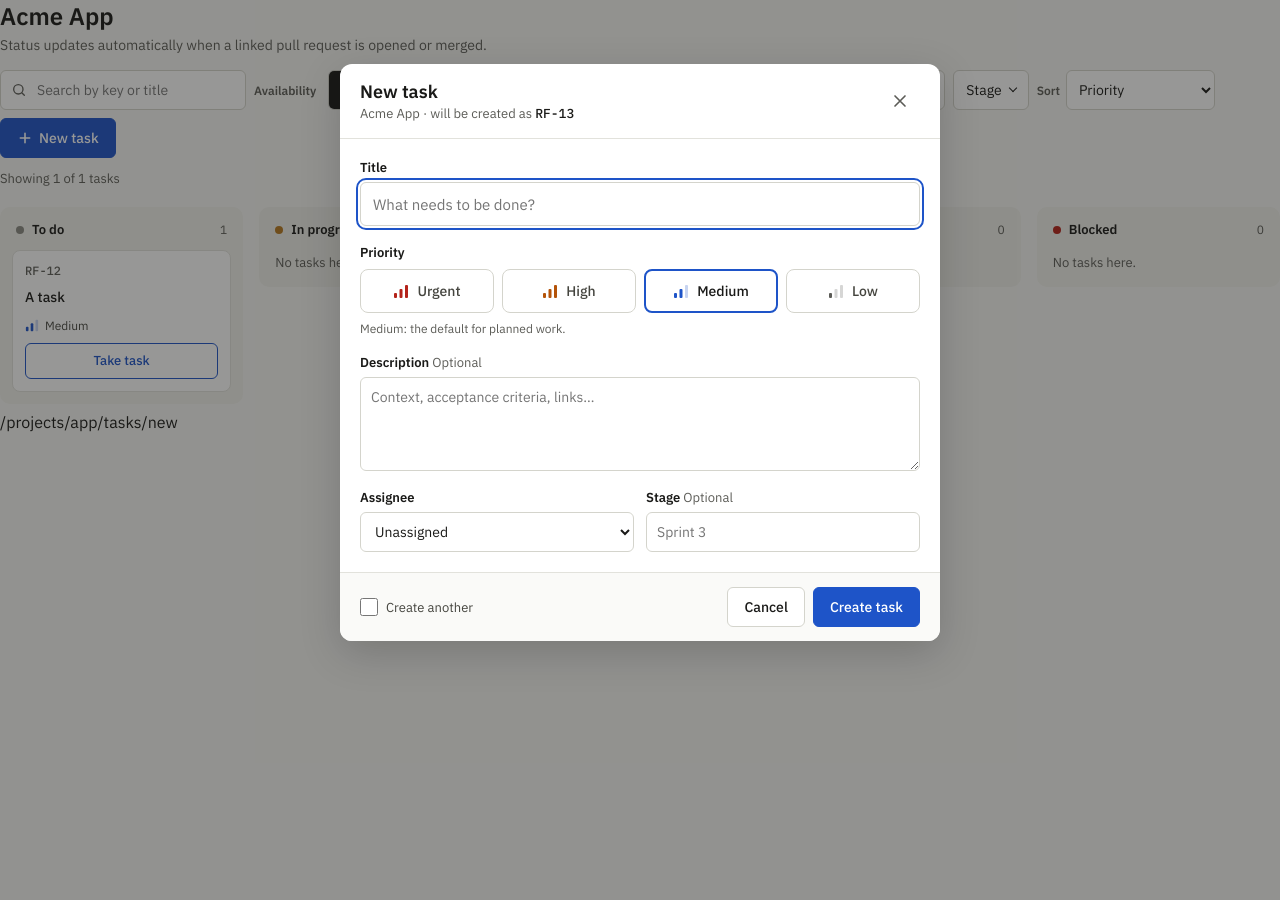
Test: New task › with 'Create another', stays open with a fresh form
The width and height of the screenshot is (1280, 900).
In the field labelled "Title": (640, 204) top-left (360, 182), bottom-right (920, 226), type "Ship it"
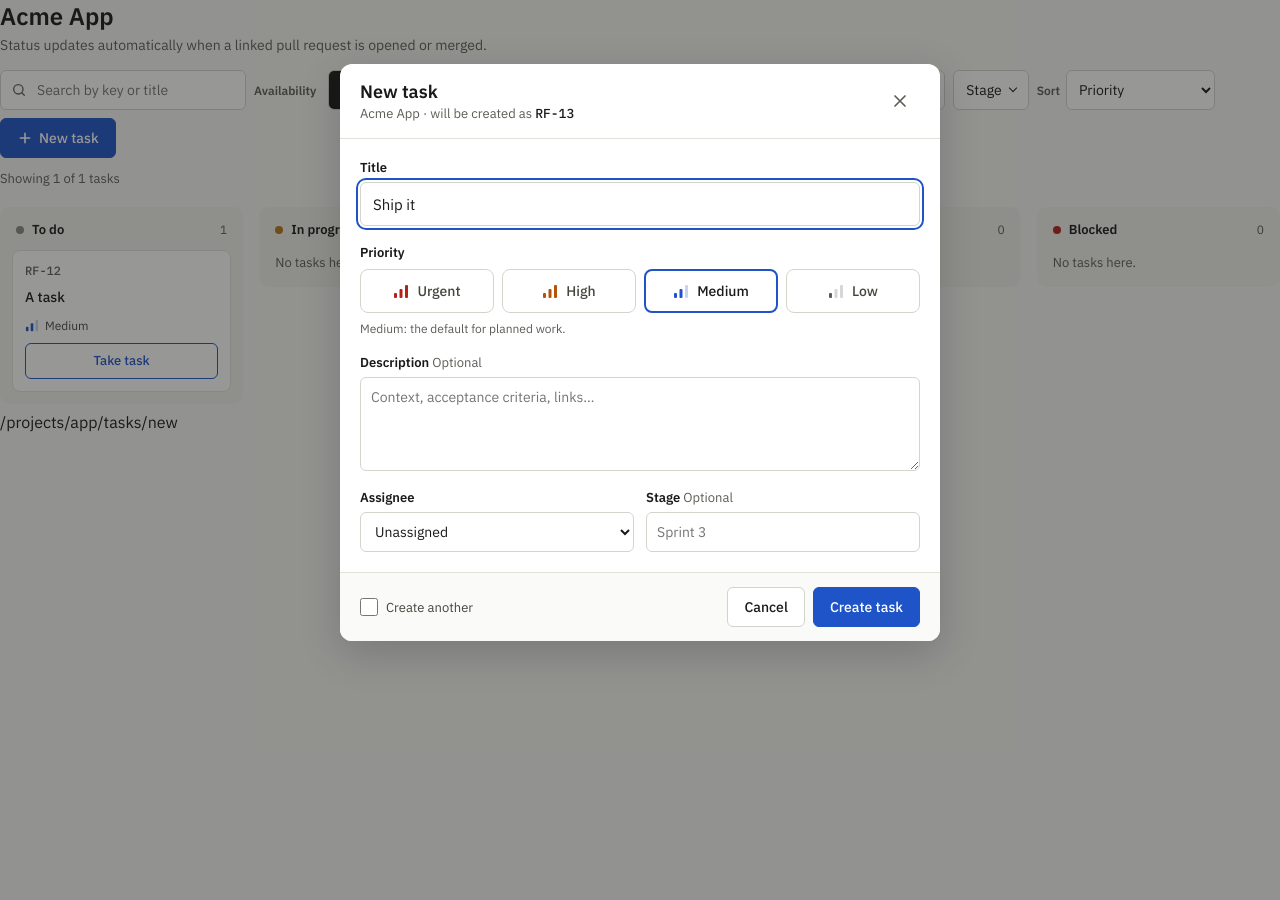
Click the radio button labelled "Low": (853, 291) top-left (786, 269), bottom-right (920, 313)
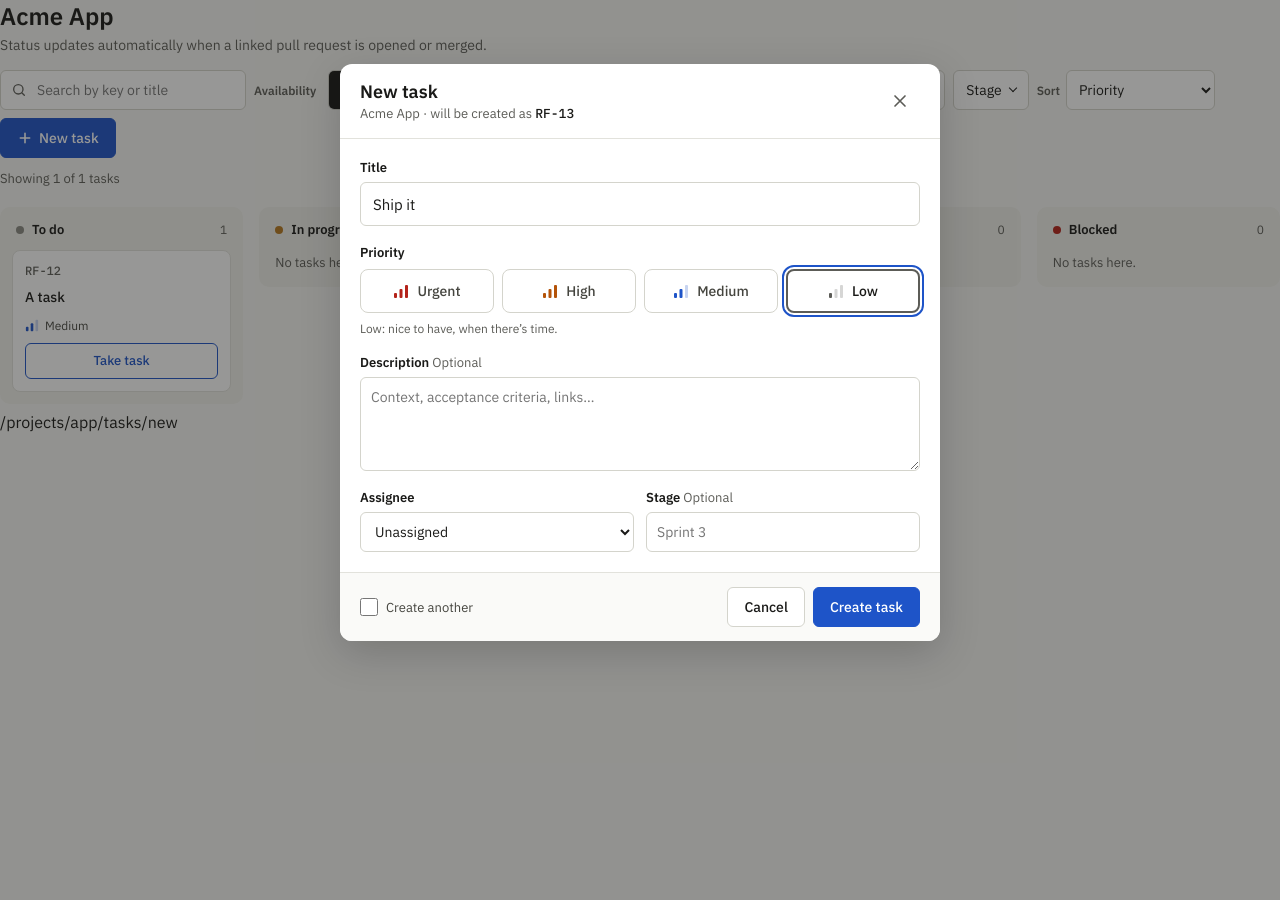
Click the checkbox labelled "Create another": (369, 607) top-left (360, 598), bottom-right (378, 616)
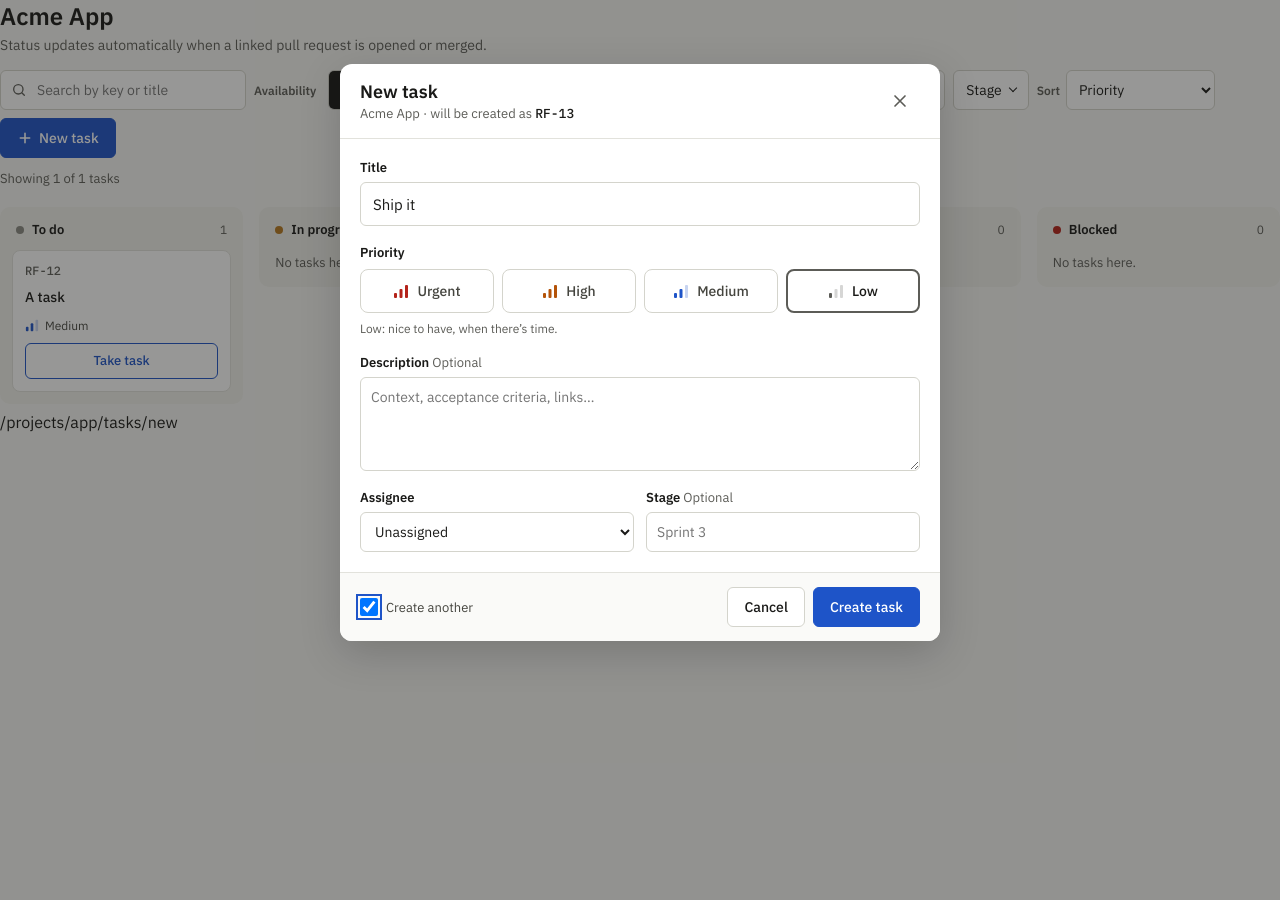
Click the button "Create task": (866, 607) top-left (813, 587), bottom-right (920, 627)
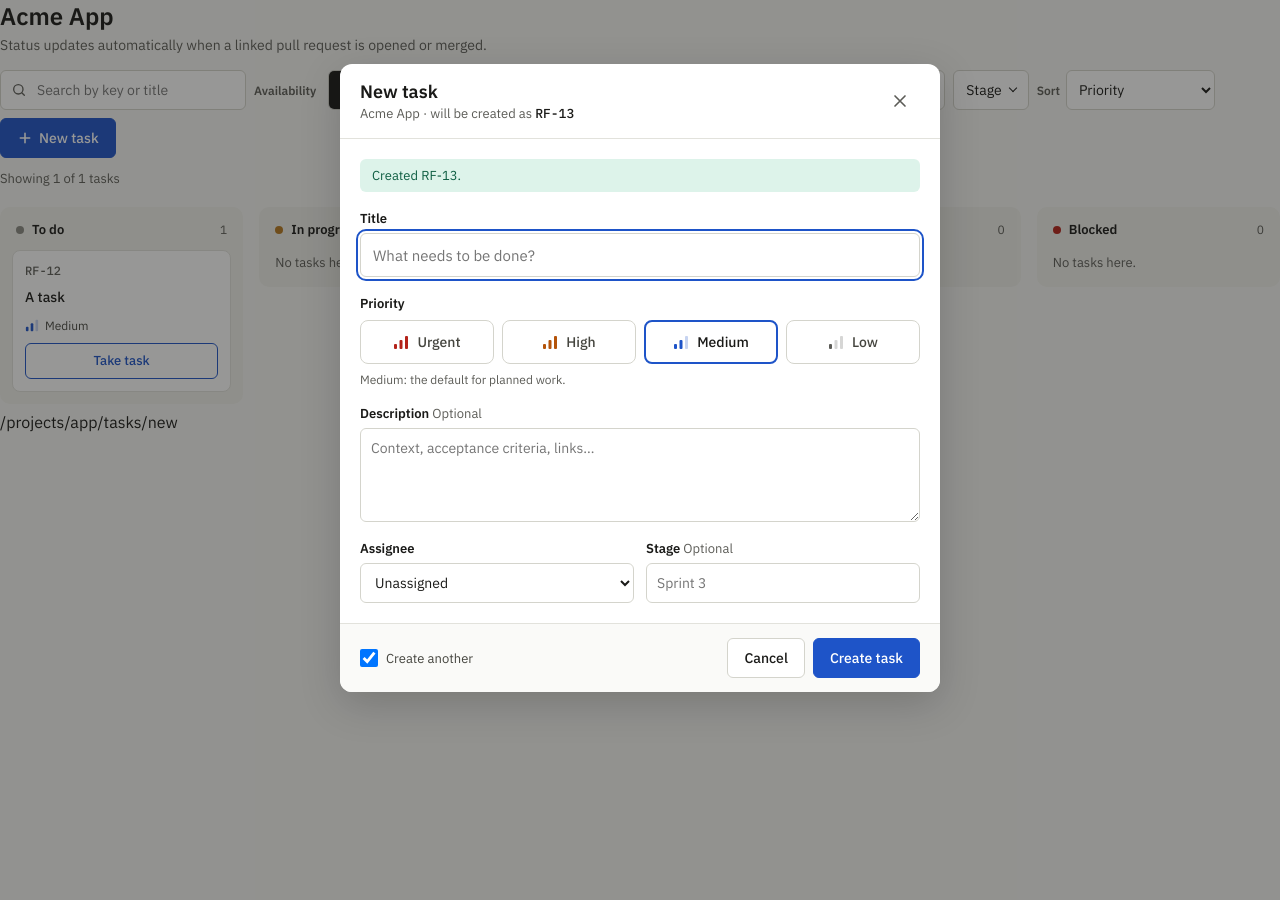
Result: the checkbox labelled "Create another" is checked at top-left (360, 649), bottom-right (378, 667)
Result: the text "Created RF-13." is shown at top-left (360, 159), bottom-right (920, 192)
Result: the radio button labelled "Medium" is checked at top-left (644, 320), bottom-right (778, 364)
